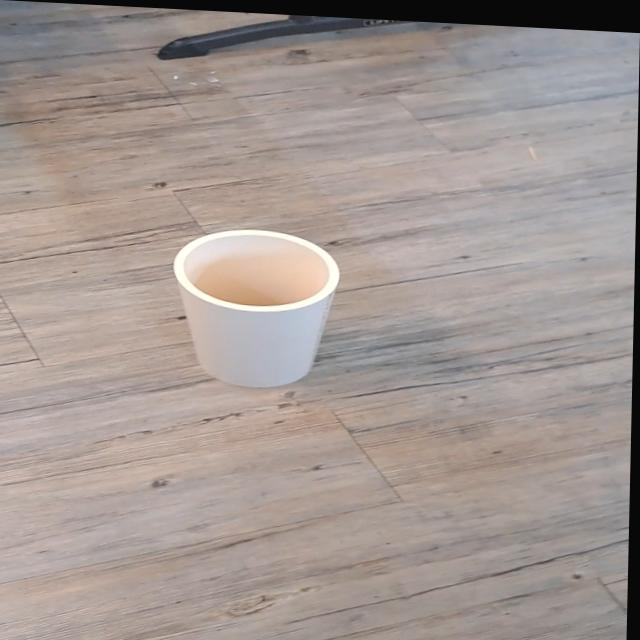CORAL: (134, 205, 372, 419)
